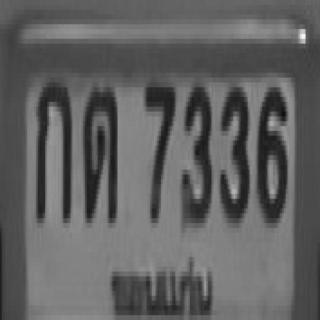A01: (34, 78, 71, 218)
A21: (81, 82, 116, 218)
N03: (179, 78, 210, 218), (219, 82, 248, 218)
N06: (255, 80, 286, 216)
N07: (143, 78, 174, 218)
P18: (106, 254, 217, 319)
